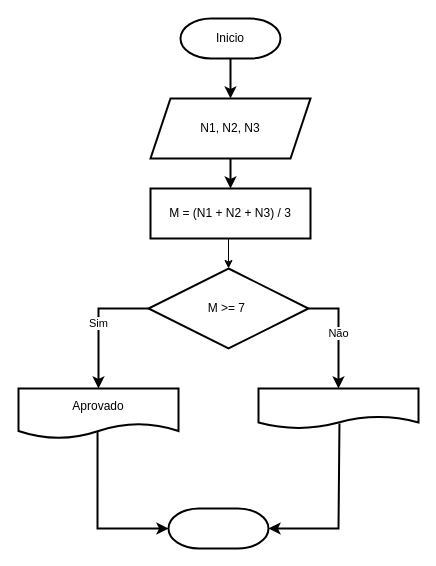
The diagram is 436 pixels wide and 566 high, and some of its shapes have lost their labels. The shapes that lost their labels are listed below. From the top down, each one's box as (x1, y1, x2, y2) in pixels, then its label:
(257, 387, 419, 429): Reprovado
(167, 507, 269, 549): Fim
